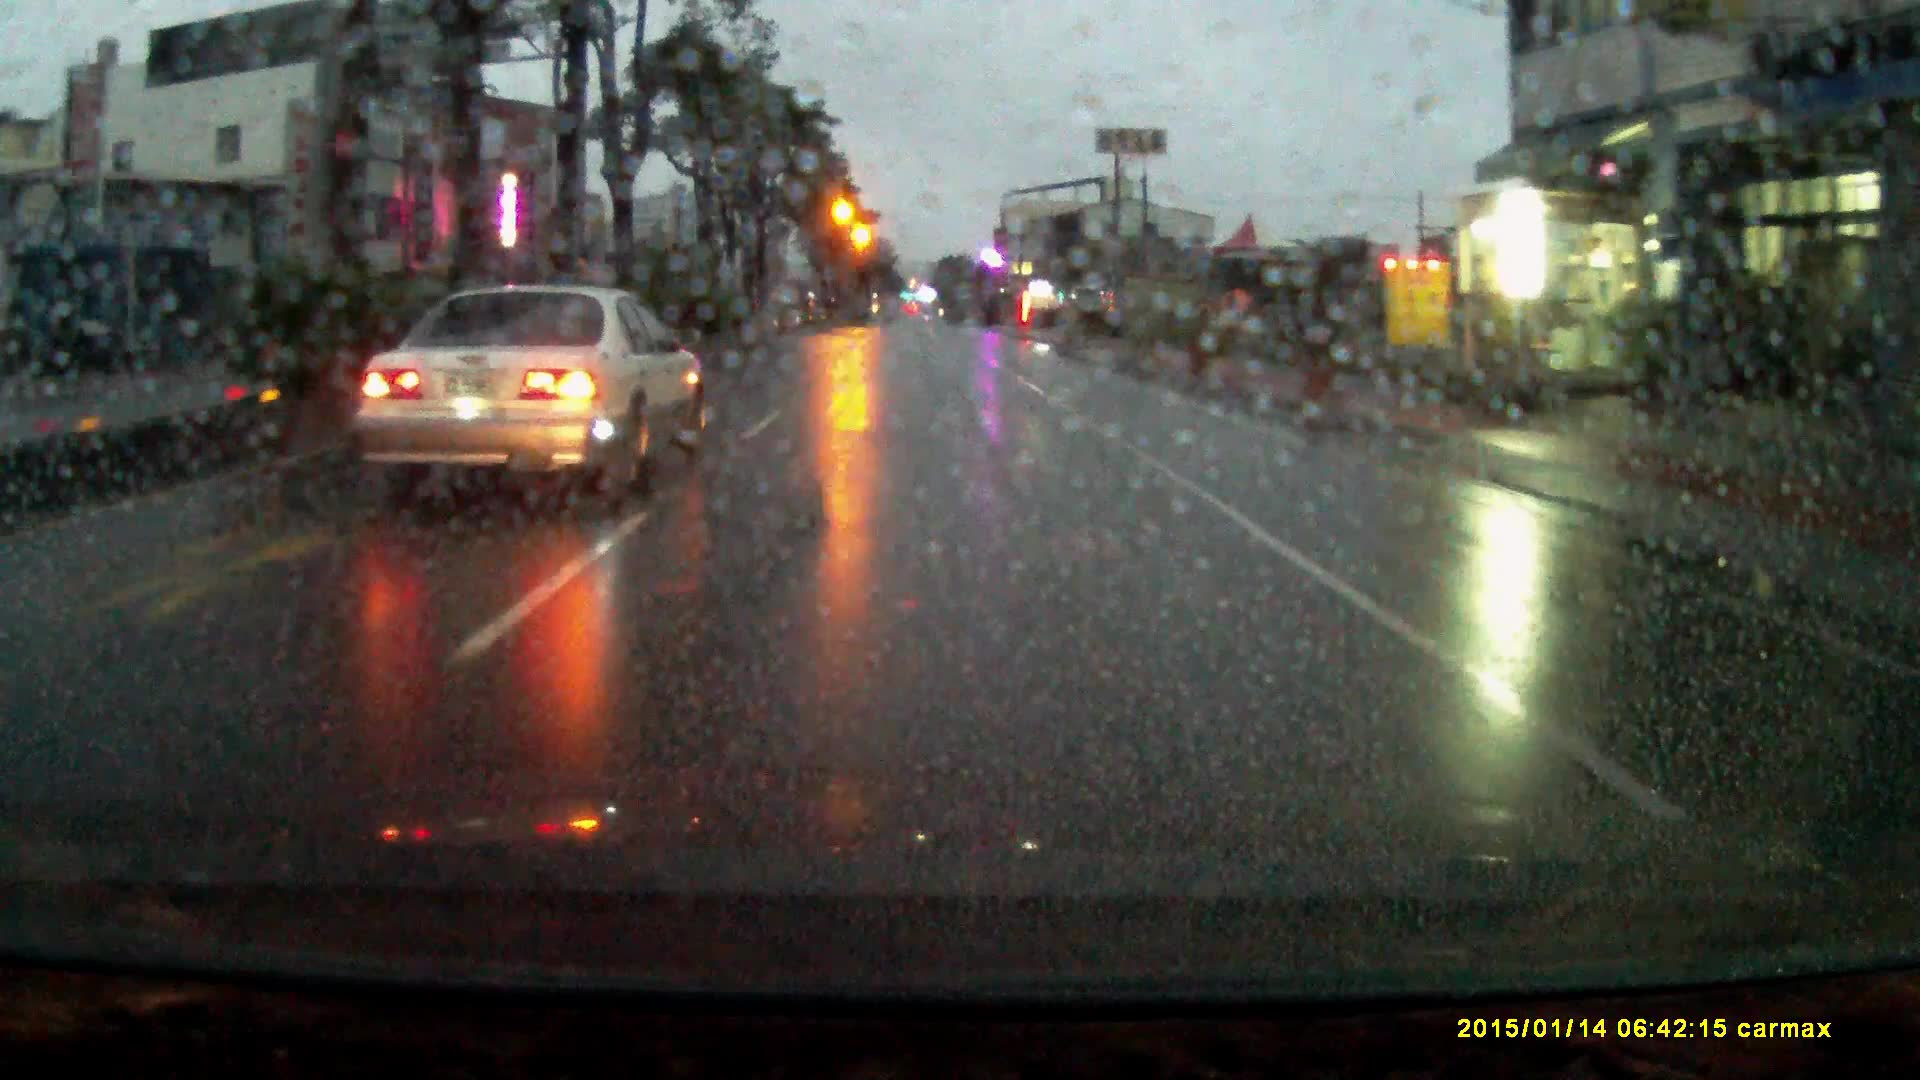vehicle: (347, 289, 709, 510)
